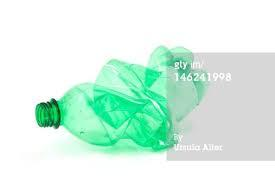plastic: (41, 48, 210, 152)
